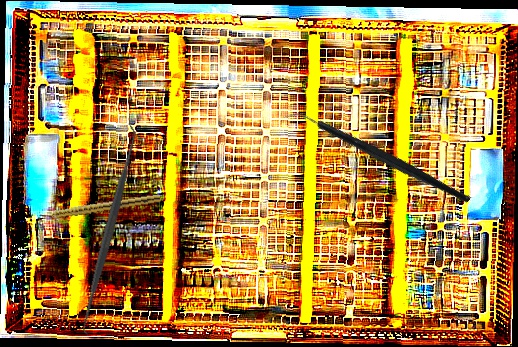Chopper: (281, 60, 472, 255)
Handpiece: (38, 191, 162, 222)
Spatula Surgical: (69, 122, 149, 337)
